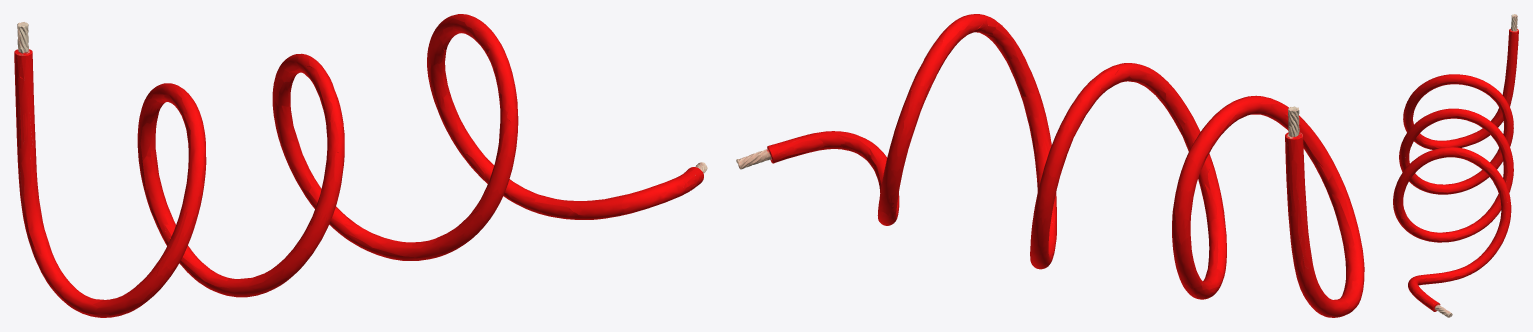
Rendered from Meshy_AI_Connecting_Wire_Red_R_0924171240_texture.glb.
3 views of the same model, side by side, from view 1: azimuth 30°, elevation 25°; view 2: azimuth 150°, elevation 25°; view 3: azimuth 270°, elevation 25° (orthographic). The views are drawn at different scales.
Parts seen in each view (by area): view 1: output_unwrapped; view 2: output_unwrapped; view 3: output_unwrapped.
Boxes of the visible parts, box(x1,y1,x2,y2) form: output_unwrapped: box(14, 14, 707, 317); output_unwrapped: box(736, 14, 1364, 317); output_unwrapped: box(1393, 14, 1518, 317).
Size of the model in its own units: 1.9 by 0.7619 by 0.6025.
Materials: 1 (1 with a texture image).
